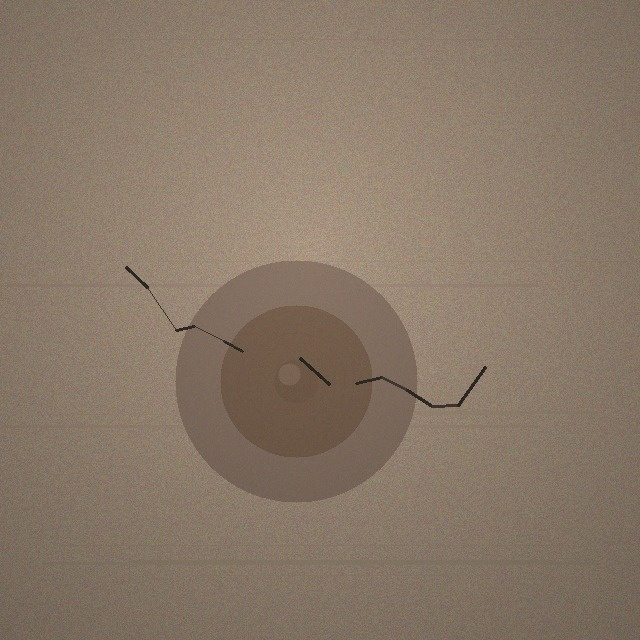crack: (175, 260, 417, 502)
